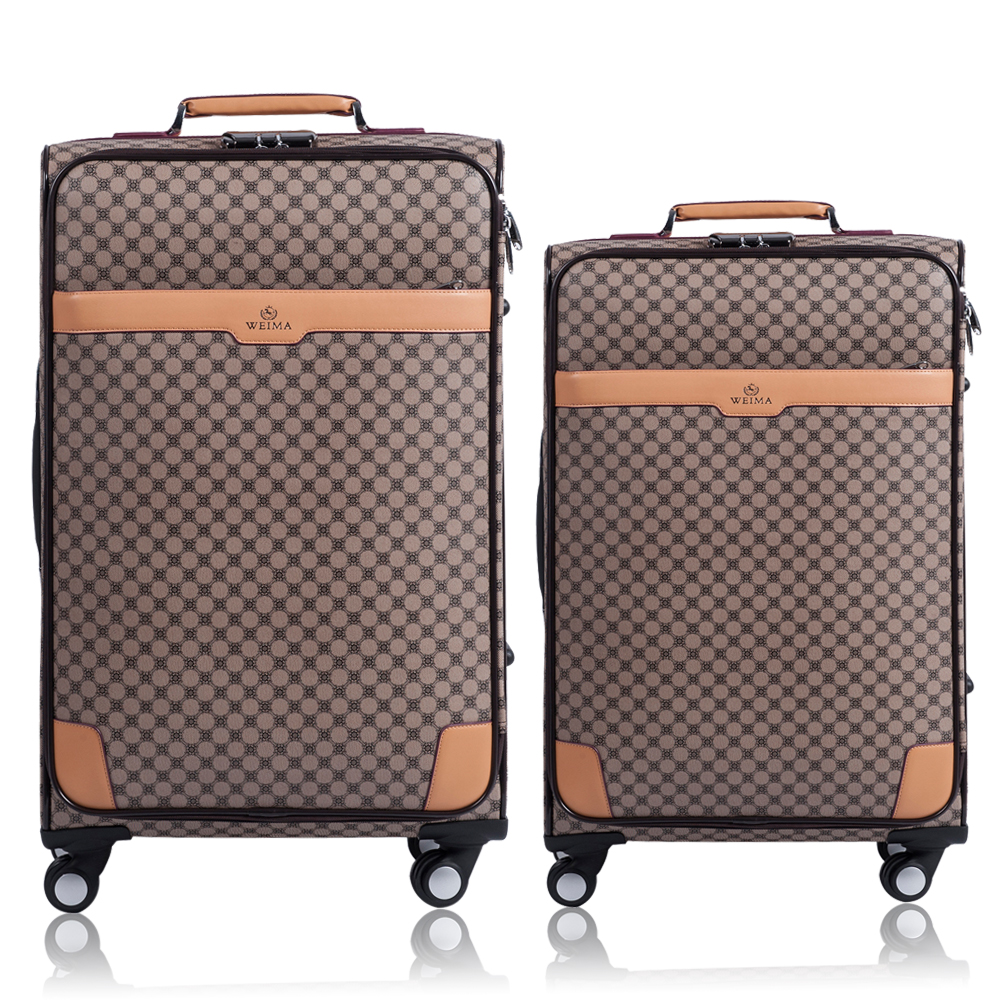luggage: (31, 93, 516, 913), (533, 199, 981, 907)
